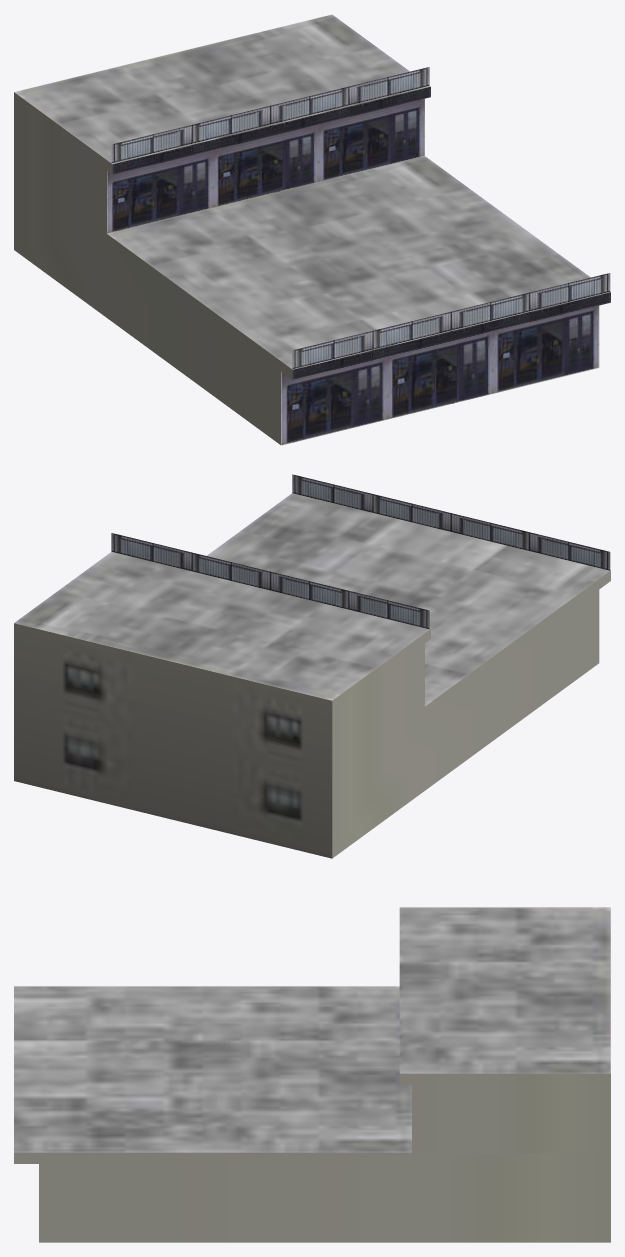
3 renders of one model, top to bottom at view 1: azimuth 30°, elevation 25°; view 2: azimuth 150°, elevation 25°; view 3: azimuth 270°, elevation 25°, orthographic. The views are drawn at different scales.
Visible parts, largest first — view 1: 5da3f7becf1bfa0548c67675.001; view 2: 5da3f7becf1bfa0548c67675.001; view 3: 5da3f7becf1bfa0548c67675.001.
Boxes of the visible parts, left/top/right/bottom form: 5da3f7becf1bfa0548c67675.001: left=14, top=14, right=610, bottom=445; 5da3f7becf1bfa0548c67675.001: left=14, top=474, right=610, bottom=858; 5da3f7becf1bfa0548c67675.001: left=14, top=907, right=610, bottom=1242.
Bounding box in the file's own units: 15.82 × 8.4 × 24.
1 material, 1 textured.
